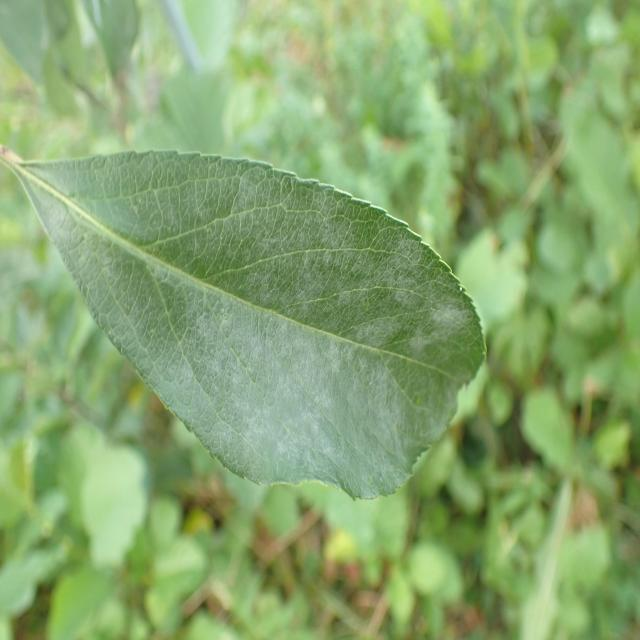Powdery_mildew: (29, 135, 492, 518)
